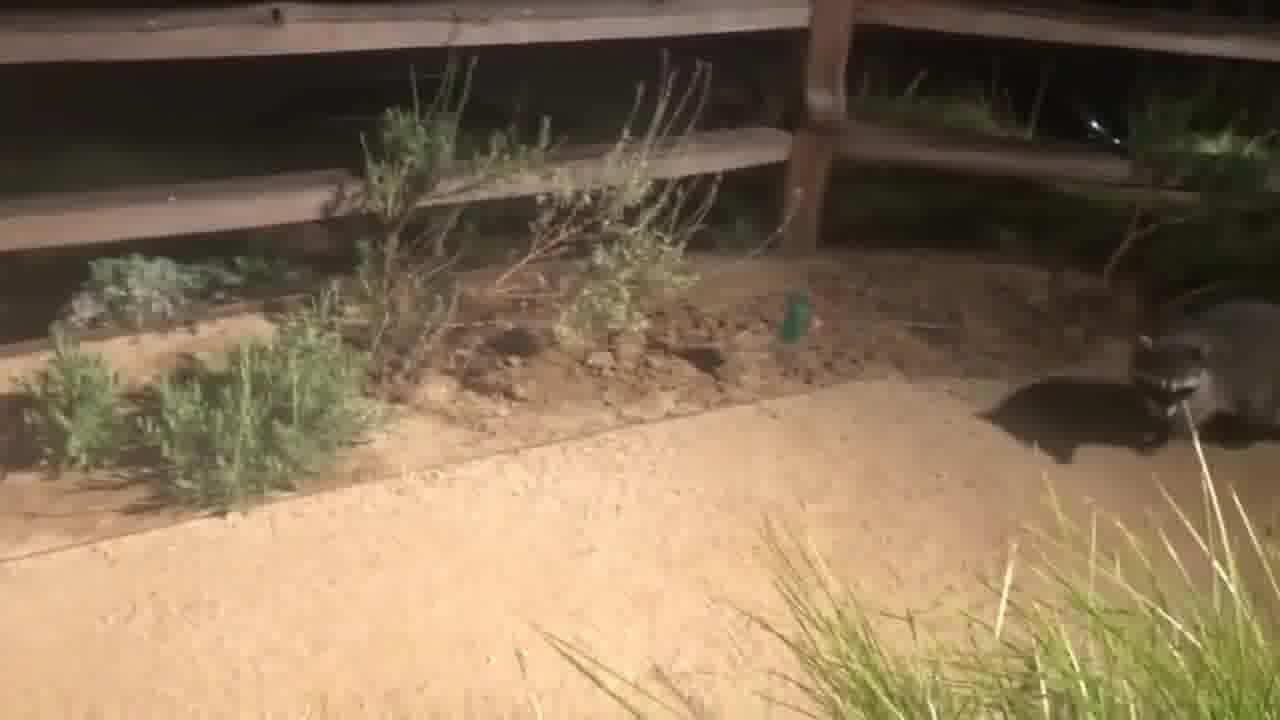raccoon: (1122, 305, 1280, 449)
